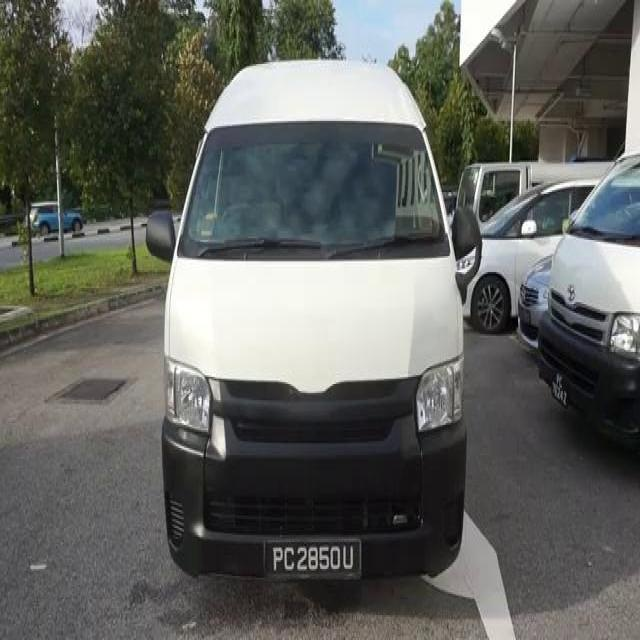Van: (158, 57, 476, 585)
